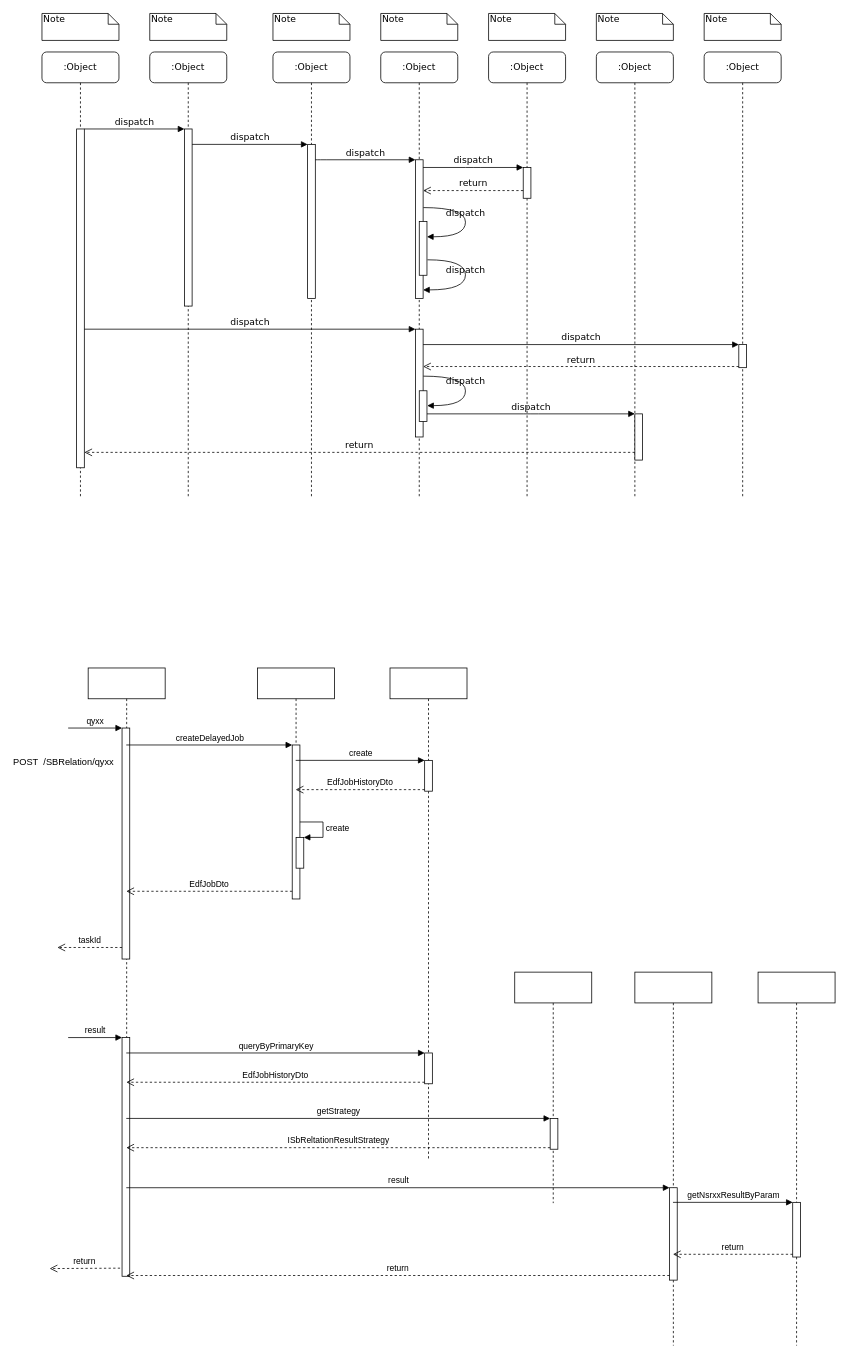
Image size: 857x1359. Some labels were removed from this diagram. Here are the shapes that lost their labels. From the top down, the box of each, then its label:
(257, 667, 335, 899): :IEdfJobService
(389, 667, 467, 1161): :IEdfJob History Service
(87, 667, 165, 1276): :IOpenApiSbRelationService
(514, 971, 592, 1203): :ResultStrategyContext
(634, 971, 712, 1346): :QyxxResultServiceImpl
(757, 971, 835, 1346): :IRobotTransferService
